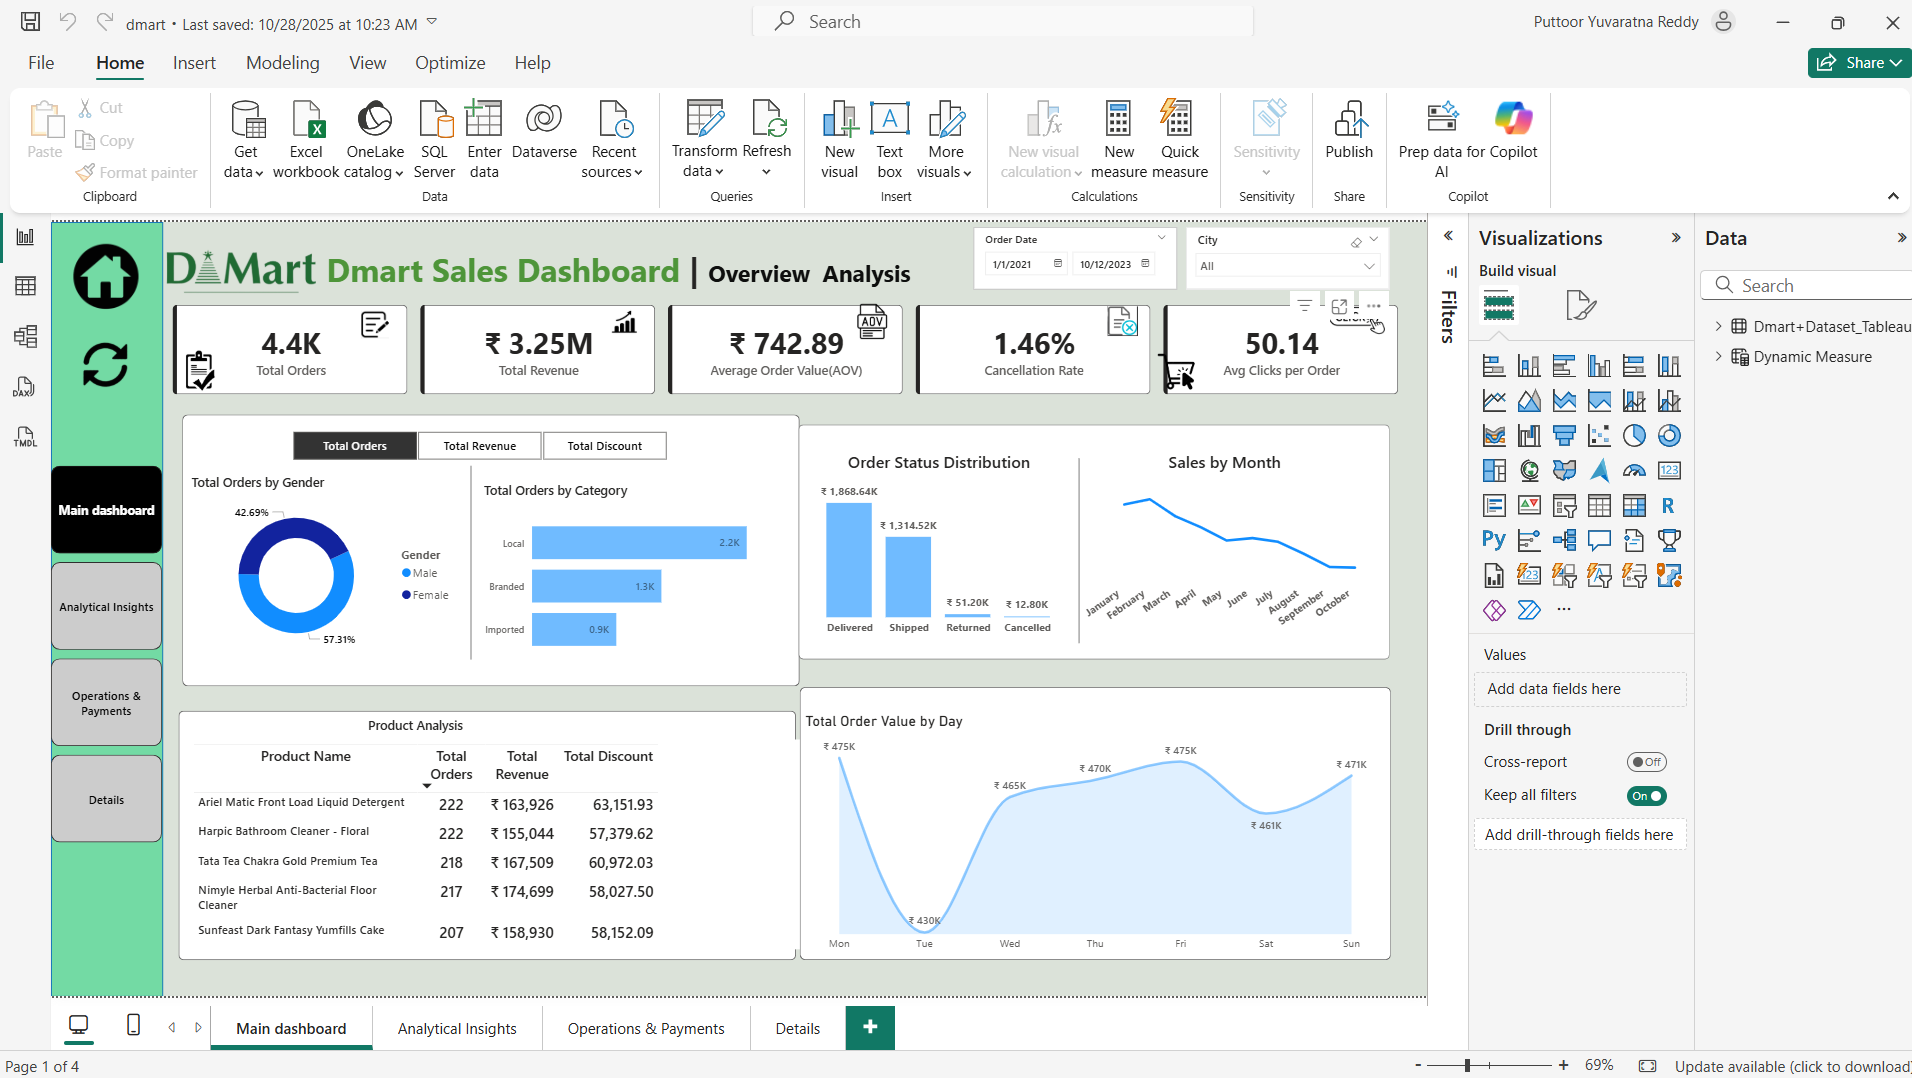

This screenshot's page, from the dashboard's own definition file:
{"tool":"powerbi","page":{"name":"Main dashboard","canvas":[1600,900],"ordinal":0},"visuals":[{"type":"shape","box":[152,224,718,316],"z":0},{"type":"shape","box":[0,0,130.4,900.9],"z":1000},{"type":"textbox","box":[315.4,24.7,735.5,62.5],"z":2000},{"type":"cardVisual","fields":{"Data":["Dmart+Dataset_Tableau.Total Orders","Dmart+Dataset_Tableau.Total Revenue","Dmart+Dataset_Tableau.Average Order Value(AOV)","Dmart+Dataset_Tableau.Cancellation Rate","Dmart+Dataset_Tableau.Avg Clicks per Order"]},"box":[136,92,1436,114],"z":3000},{"type":"image","box":[1223.8,81.4,45.1,68.3],"z":4000},{"type":"image","box":[921.5,84.3,66.9,61],"z":5000},{"type":"image","box":[356.1,94.5,42.2,49.4],"z":6000},{"type":"image","box":[148,144,50,58],"z":7000},{"type":"image","box":[633.7,81.4,62.5,64],"z":8000},{"type":"image","box":[1280.5,143.9,58.1,58.1],"z":9000},{"type":"image","box":[1482.6,78.5,75.6,68.3],"z":10000},{"type":"slicer","fields":{"Values":["Dynamic Measure.Dynamic Measure"]},"box":[255.8,236.9,484,46.5],"z":11000},{"type":"image","box":[130,20,188,70],"z":12000},{"type":"donutChart","fields":{"Y":["Dmart+Dataset_Tableau.Total Orders","select"],"Category":["Dmart+Dataset_Tableau.Gender"]},"box":[158,292,320,218],"z":13000},{"type":"barChart","fields":{"Y":["Dmart+Dataset_Tableau.Total Orders"],"Category":["Dmart+Dataset_Tableau.Category"]},"box":[498.5,300.9,353.2,219.5],"z":14000},{"type":"shape","box":[148,568,718,290],"z":15000},{"type":"pivotTable","fields":{"Rows":["Dmart+Dataset_Tableau.Product Name"],"Values":["Dmart+Dataset_Tableau.Total Orders","Dmart+Dataset_Tableau.Total Revenue","Dmart+Dataset_Tableau.Total Discount"],"Columns":["Dmart+Dataset_Tableau.Product Name"]},"box":[162,602,710,244],"z":16000},{"type":"textbox","box":[129.4,569.8,588.7,32],"z":17000},{"type":"shape","box":[870,540,687.5,317.5],"z":18000},{"type":"areaChart","title":" Total Order Value by Day","fields":{"Y":["Dmart+Dataset_Tableau.Total Revenue"],"Category":["Dmart+Dataset_Tableau.Day name"]},"box":[872.5,570,685,287.5],"z":19000},{"type":"shape","box":[425.9,283.4,125,225.3],"z":20000},{"type":"slicer","fields":{"Values":["Dmart+Dataset_Tableau.Order Date"]},"box":[1072.9,5.7,237.1,72.9],"z":21000},{"type":"slicer","fields":{"Values":["Dmart+Dataset_Tableau.City"]},"box":[1319.8,5.8,236.9,72.7],"z":22000},{"type":"shape","box":[869.2,235.5,687.5,273.3],"z":23000},{"type":"lineChart","title":"Sales  by Month","fields":{"Category":["Dmart+Dataset_Tableau.Order Date.Variation.Date Hierarchy.Month"],"Y":["Dmart+Dataset_Tableau.Total Revenue"]},"box":[1196.2,266,337.2,223.8],"z":24000},{"type":"columnChart","title":"Order Status Distribution","fields":{"Y":["Dmart+Dataset_Tableau.Total Revenue"],"Category":["Dmart+Dataset_Tableau.Order Status"]},"box":[869.2,266,327,223.8],"z":25000},{"type":"shape","box":[1143.9,274.7,103.2,215.1],"z":26000},{"type":"pageNavigator","box":[0,283.4,129.4,440.4],"z":27000},{"type":"image","box":[12.2,5.2,106.1,113],"z":28000},{"type":"image","box":[19.1,120,92.2,88.7],"z":29000}]}

Visuals, with their boxes on the page's 1600x900 design canvas (x1, y1, x2, y2). These are canvas units, not pixel positions in the 1912x1078 screenshot, which may show the page scaled, cropped or inside an application window:
shape: crop(152, 224, 870, 540)
shape: crop(0, 0, 130, 901)
textbox: crop(315, 25, 1051, 87)
cardVisual - Dmart+Dataset_Tableau.Total Orders x Dmart+Dataset_Tableau.Total Revenue: crop(136, 92, 1572, 206)
image: crop(1224, 81, 1269, 150)
image: crop(922, 84, 988, 145)
image: crop(356, 94, 398, 144)
image: crop(148, 144, 198, 202)
image: crop(634, 81, 696, 145)
image: crop(1280, 144, 1339, 202)
image: crop(1483, 78, 1558, 147)
slicer - Dynamic Measure.Dynamic Measure: crop(256, 237, 740, 283)
image: crop(130, 20, 318, 90)
donutChart - Dmart+Dataset_Tableau.Total Orders x select: crop(158, 292, 478, 510)
barChart - Dmart+Dataset_Tableau.Total Orders x Dmart+Dataset_Tableau.Category: crop(498, 301, 852, 520)
shape: crop(148, 568, 866, 858)
pivotTable - Dmart+Dataset_Tableau.Product Name x Dmart+Dataset_Tableau.Total Orders: crop(162, 602, 872, 846)
textbox: crop(129, 570, 718, 602)
shape: crop(870, 540, 1558, 858)
" Total Order Value by Day" areaChart: crop(872, 570, 1558, 858)
shape: crop(426, 283, 551, 509)
slicer - Dmart+Dataset_Tableau.Order Date: crop(1073, 6, 1310, 79)
slicer - Dmart+Dataset_Tableau.City: crop(1320, 6, 1557, 78)
shape: crop(869, 236, 1557, 509)
"Sales  by Month" lineChart: crop(1196, 266, 1533, 490)
"Order Status Distribution" columnChart: crop(869, 266, 1196, 490)
shape: crop(1144, 275, 1247, 490)
pageNavigator: crop(0, 283, 129, 724)
image: crop(12, 5, 118, 118)
image: crop(19, 120, 111, 209)
